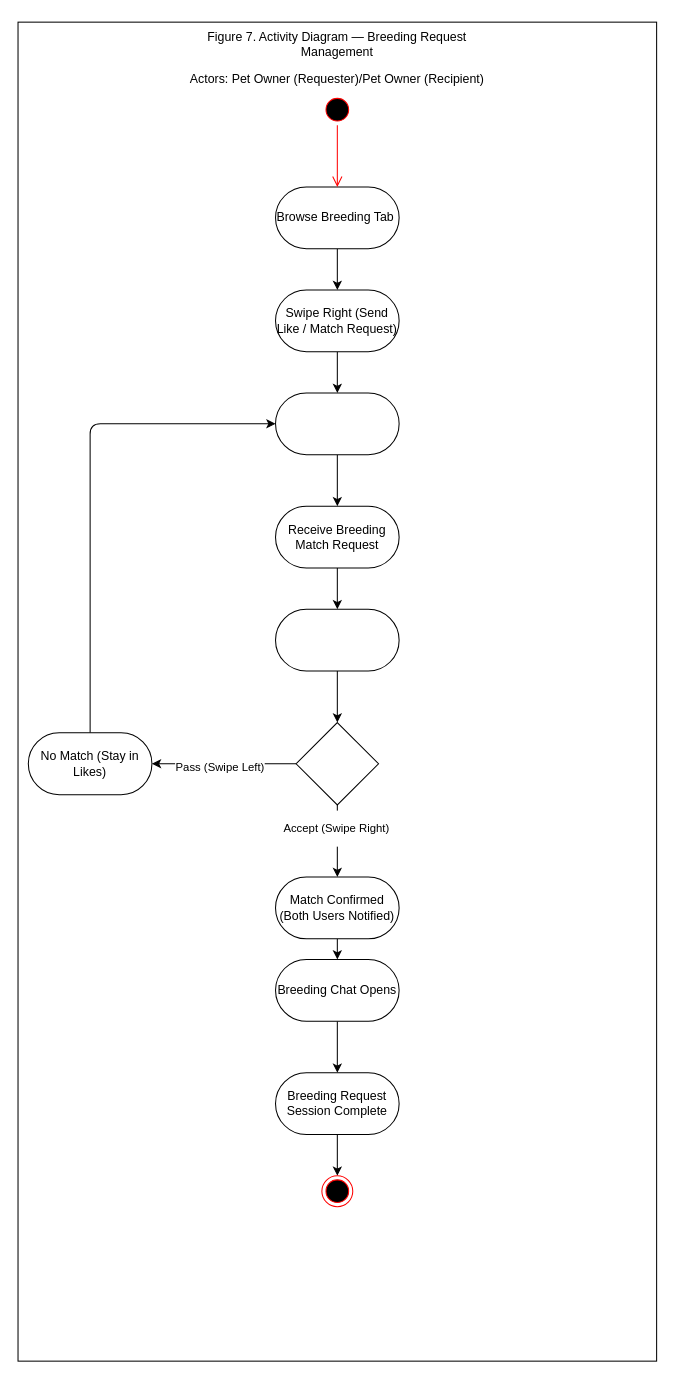
Image size: 675x1379. Some labels were removed from this diagram. The shapes that lost their labels are listed below. From the top down, each one's centre as x and y in pixels, then its label:
At point (336, 423): "Status: Waiting for Match".
At point (336, 639): "View Requester Pet Profile".
At point (337, 763): "Accept or Pass?".
